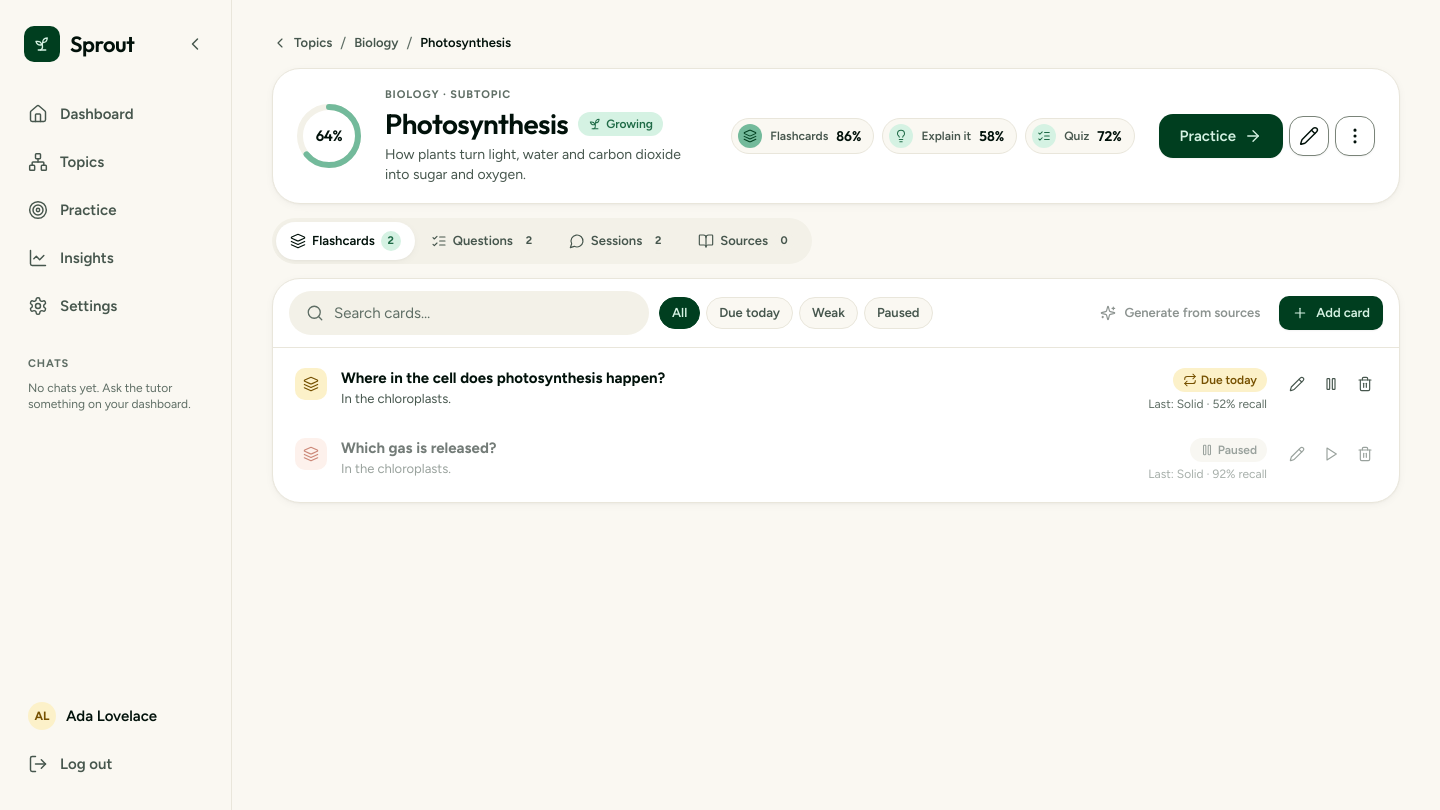
it: SubtopicView › Sources tab › shows the empty state without sources, and no Generate from sources
Click the tab with test id "tab-sources" at (746, 241), box [684,222,808,260]
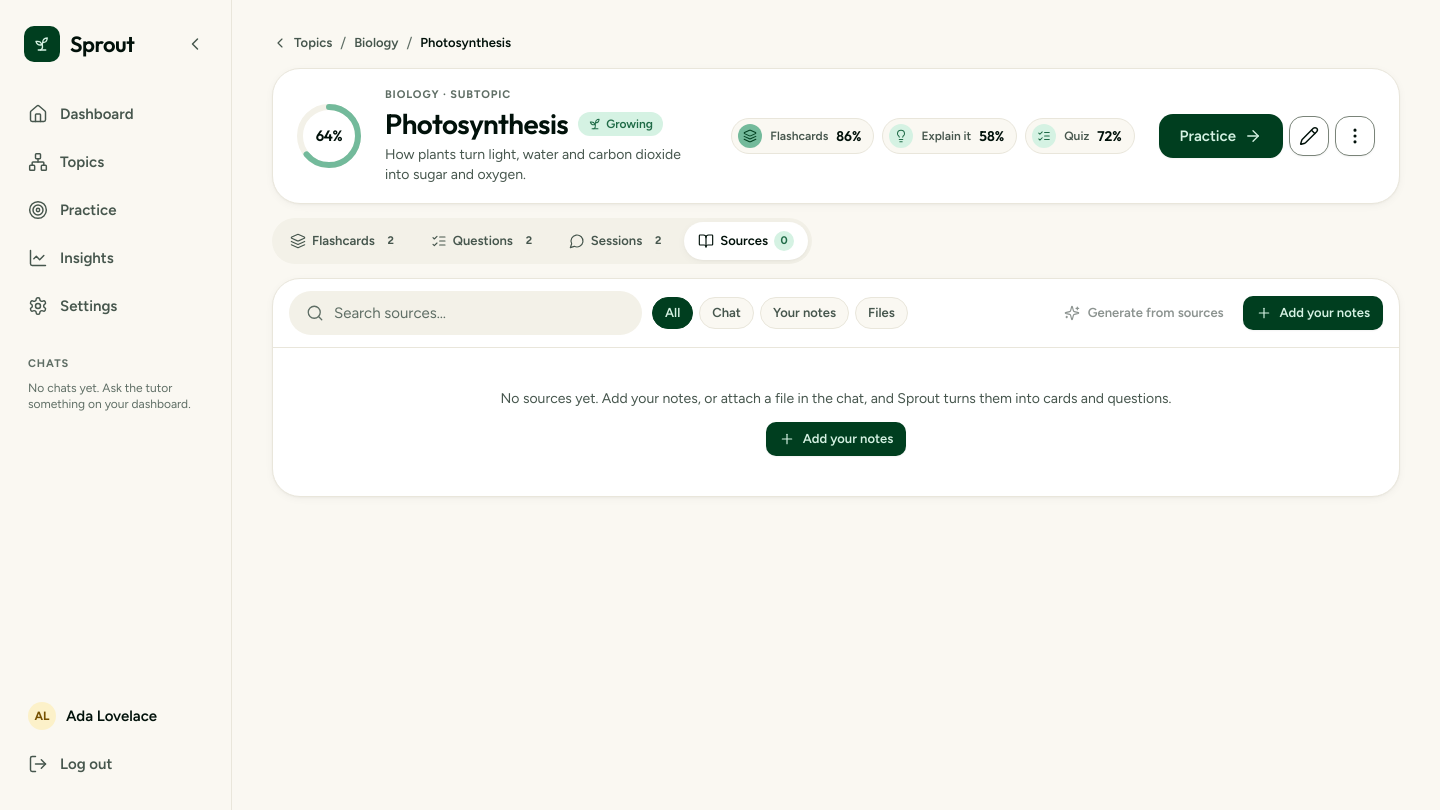
Check: the button with test id "generate-from-sources" is disabled, box [1051,296,1237,330]
Check: the list item with test id "empty" shows "No sources yet.", box [500,390,1171,407]
Check: the button with test id "empty-add-notes" is shown, box [766,422,906,456]
